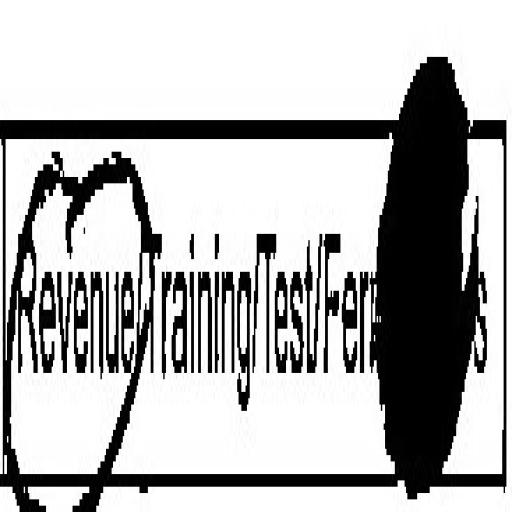check: (0, 48, 143, 512)
